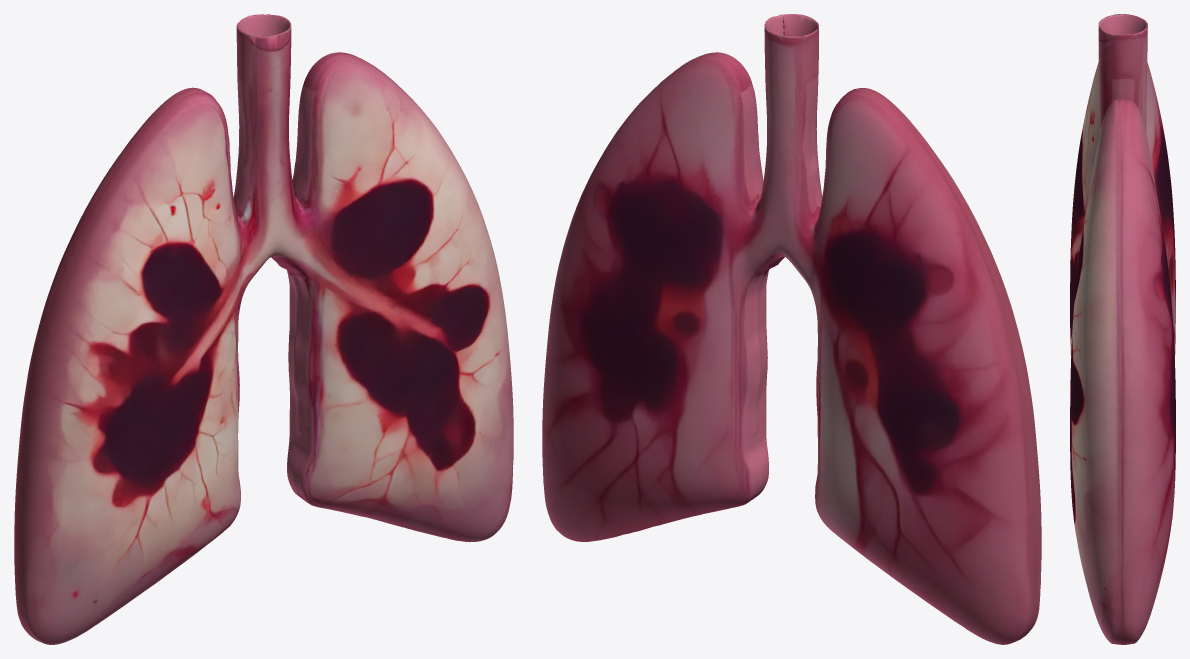
Rendered from pneumonia-lung.glb.
The picture shows the model from 3 angles, left to right: view 1: azimuth 30°, elevation 25°; view 2: azimuth 150°, elevation 25°; view 3: azimuth 270°, elevation 25°; orthographic projection. The views are drawn at different scales.
Visible parts, largest first — view 1: model; view 2: model; view 3: model.
Boxes of the visible parts, <box> form: model: <box>14,14,513,644</box>; model: <box>542,14,1041,644</box>; model: <box>1070,14,1175,644</box>.
Size of the model in its own units: 1.72 by 1.9 by 0.3493.
1 material, 1 textured.
